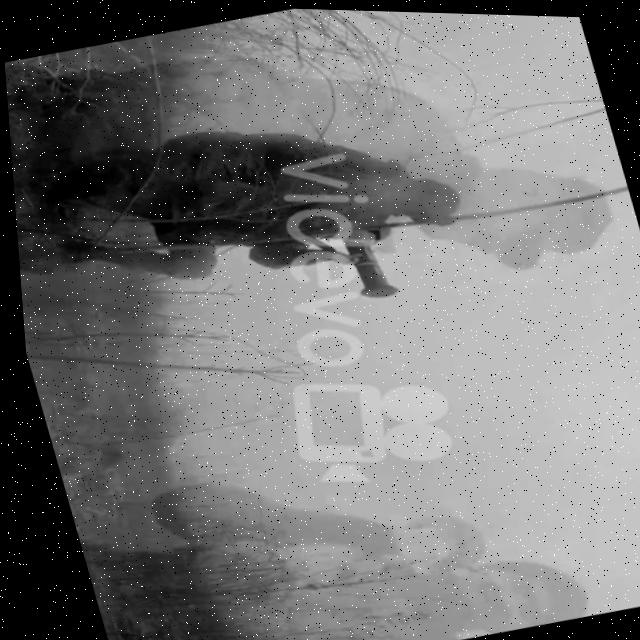rocket: (334, 232, 399, 303)
